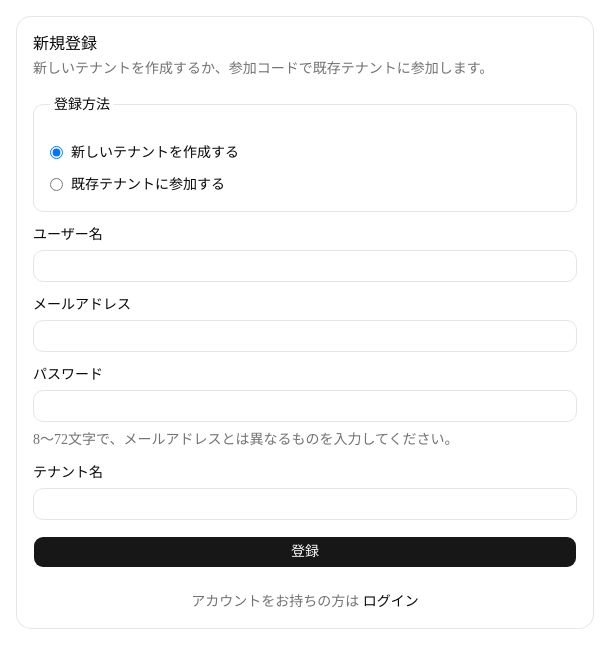
Test case: SignUpForm › 登録方法に応じてテナント固有の入力欄を切り替える
The image size is (611, 646).
Check: the field labelled "テナント名" is shown, box x1=33 y1=488 x2=577 y2=520
Click the radio button labelled "既存テナントに参加する".
click(56, 184)  # box x1=50 y1=178 x2=63 y2=191
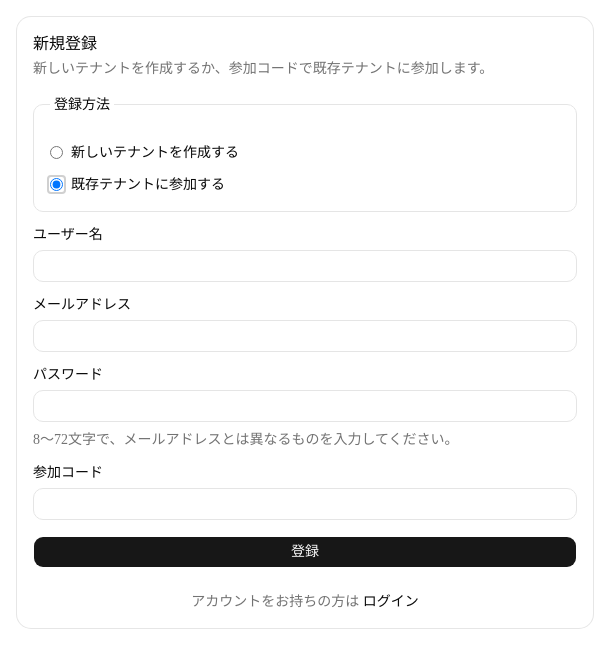
Check: the field labelled "参加コード" is shown, box x1=33 y1=488 x2=577 y2=520
Check: the label labelled "テナント名" is gone
